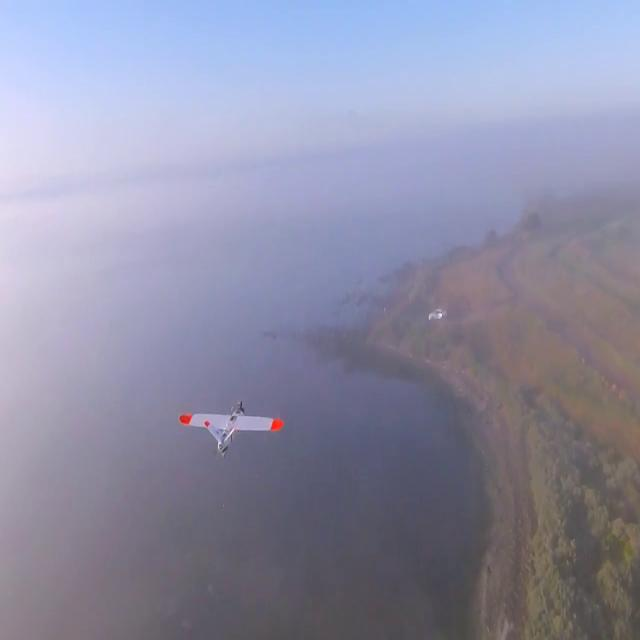iha: (211, 397, 253, 460)
